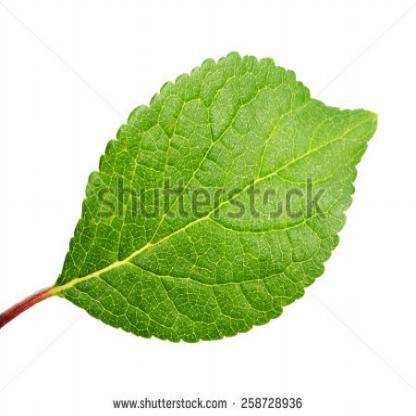Apple leaf: (50, 44, 392, 354)
